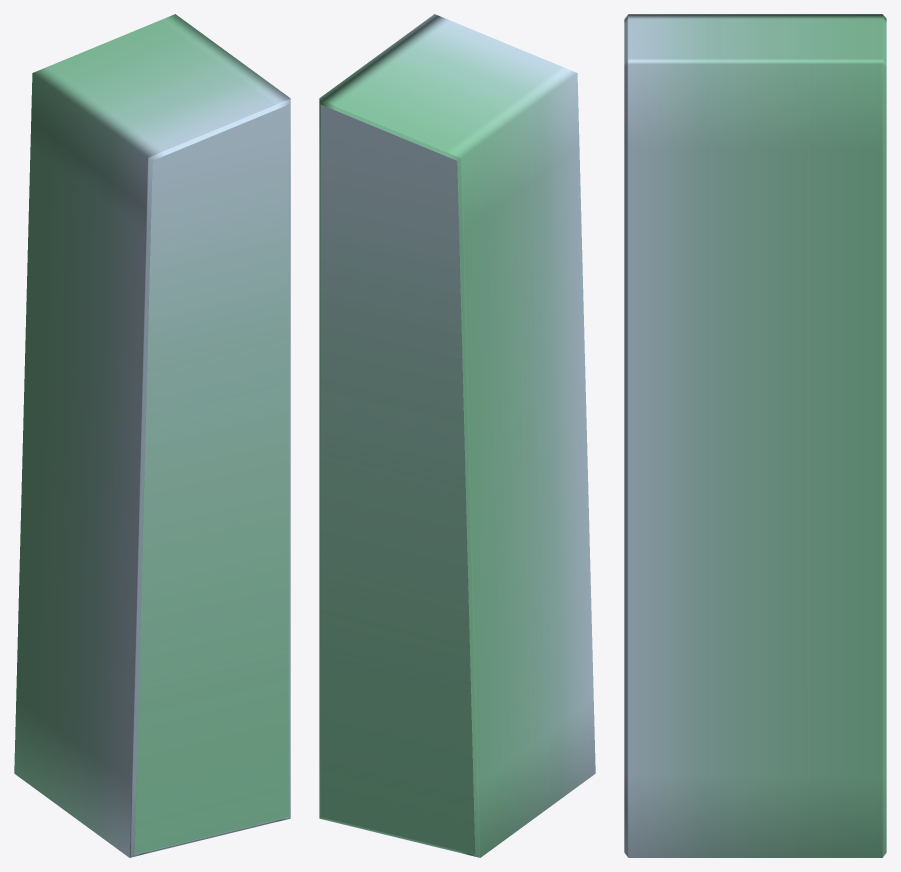
File: alphaIR.obj
3 views of the same model, side by side, from view 1: azimuth 30°, elevation 25°; view 2: azimuth 150°, elevation 25°; view 3: azimuth 270°, elevation 25° (orthographic). The views are drawn at different scales.
Parts seen in each view (by area): view 1: polySurface11; view 2: polySurface11; view 3: polySurface11.
Boxes of the visible parts, x1,y1,x2,y2 form: polySurface11: (14,14,290,857); polySurface11: (319,14,595,857); polySurface11: (624,14,886,857).
Size of the model in its own units: 0.5144 by 2.2 by 0.6578.
